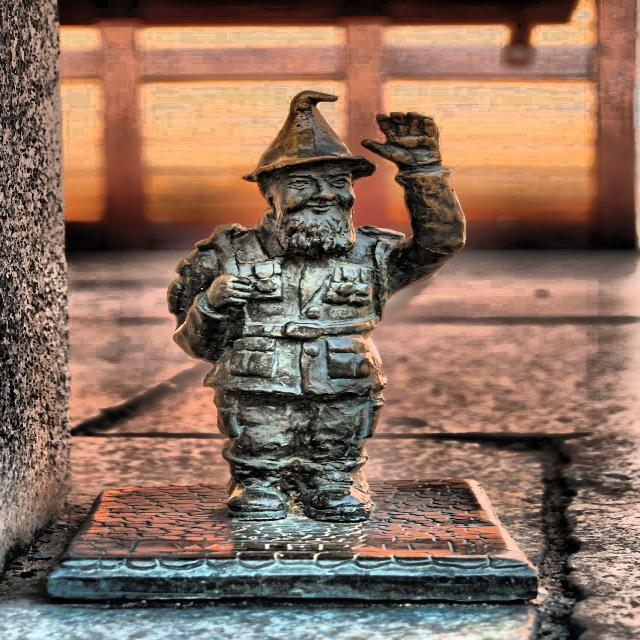Weteran: (168, 91, 465, 521)
